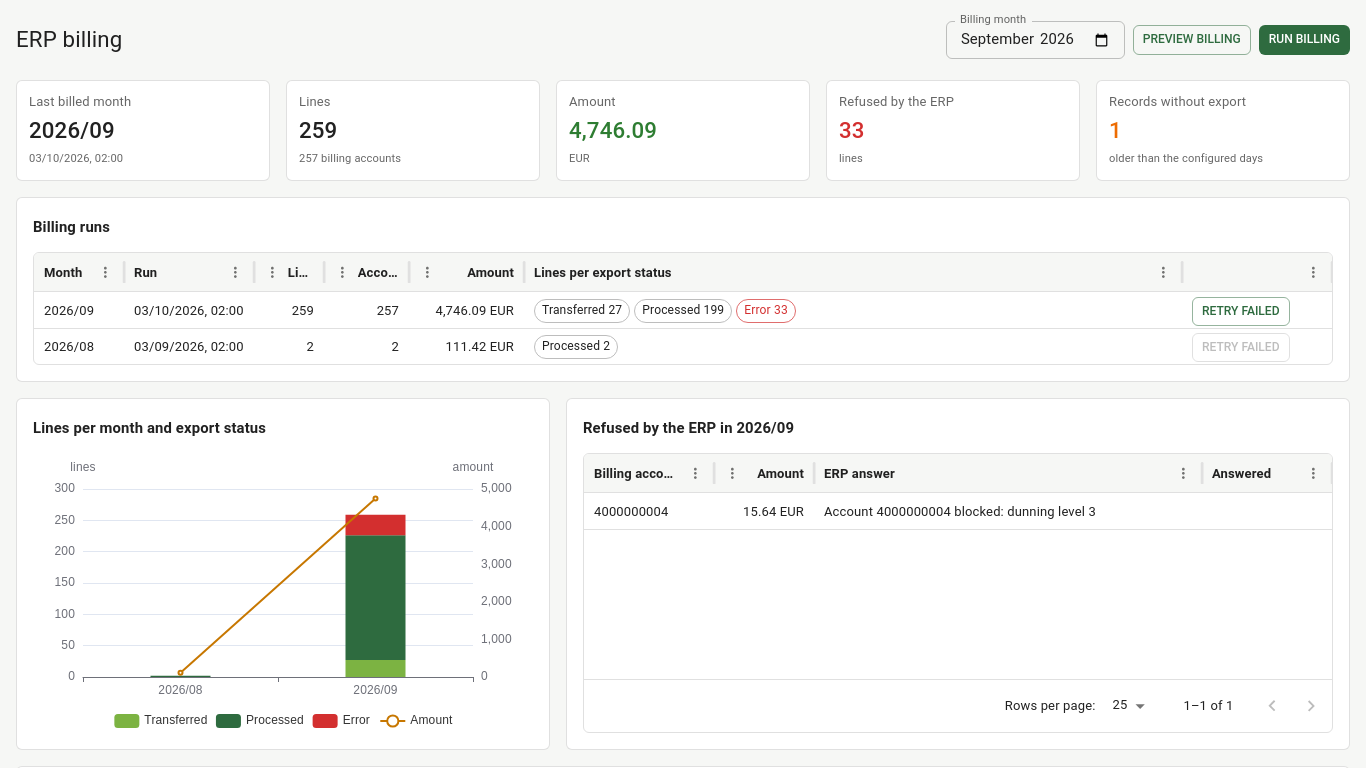
Test: ERP billing tab › sends the refused lines of a month to the ERP again after confirmation
Click the button with test id "retry-2026_09".
click(1241, 312)  # box [1192,297,1290,326]
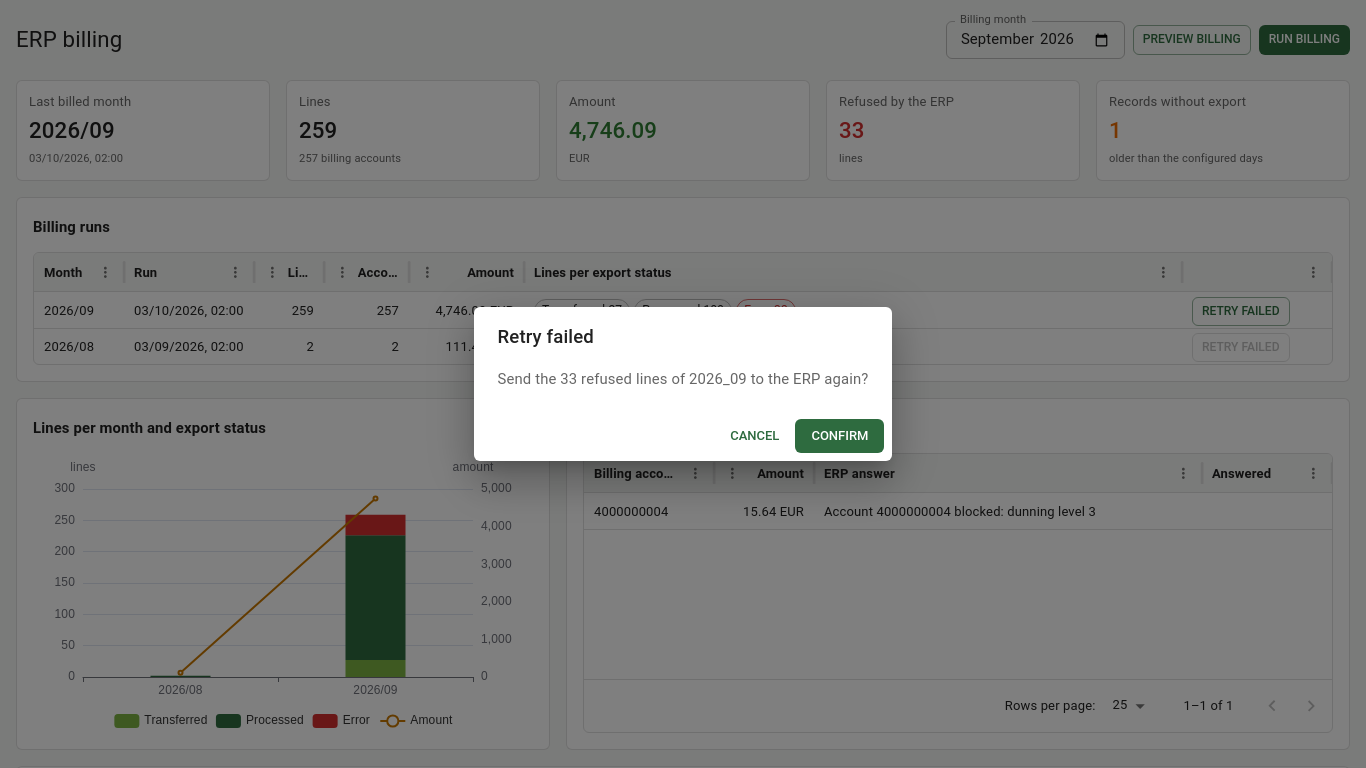
Click the button "Confirm".
click(840, 436)  # box [795,419,884,453]
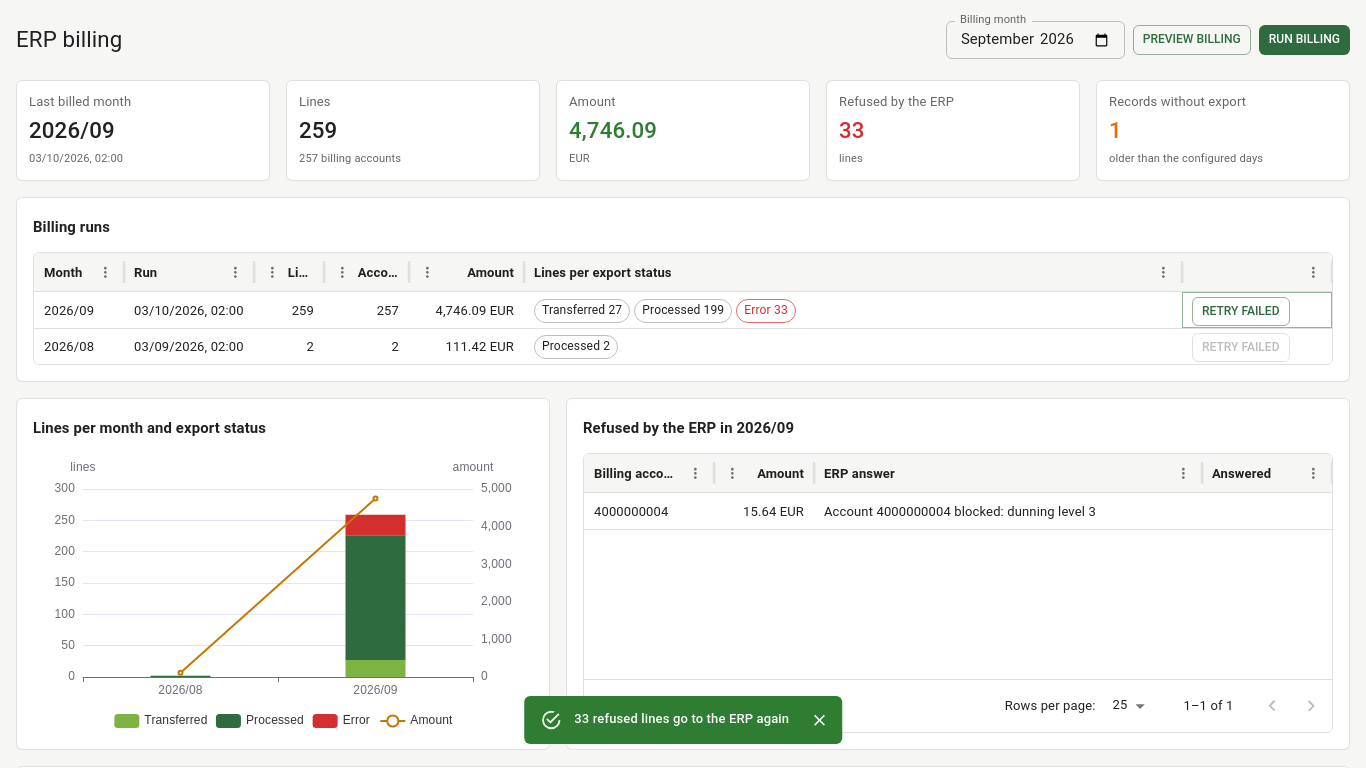
Expected: the message with test id "notification" reads "33 refused lines go to the ERP again", [574,711,789,726]
